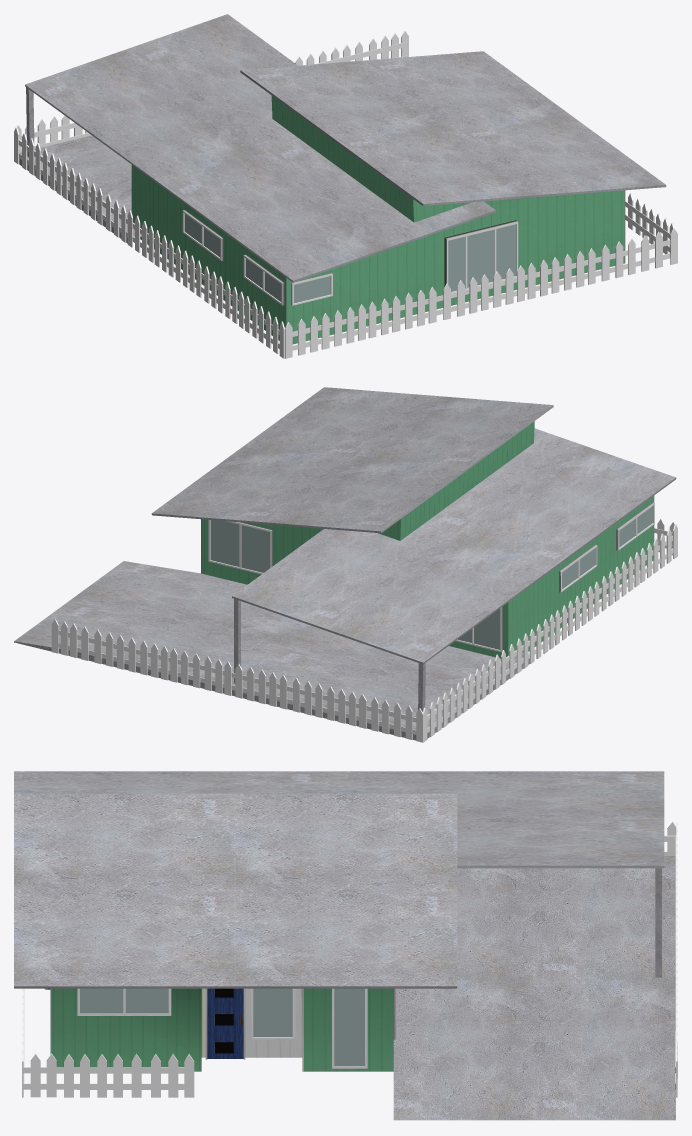
The model's file is 50s_House_Green.glb.
3 renders of one model, top to bottom at view 1: azimuth 30°, elevation 25°; view 2: azimuth 150°, elevation 25°; view 3: azimuth 270°, elevation 25°, orthographic. The views are drawn at different scales.
Bounding box in the file's own units: 14.85 × 4.07 × 16.2.
Materials: 6 (5 with a texture image).
